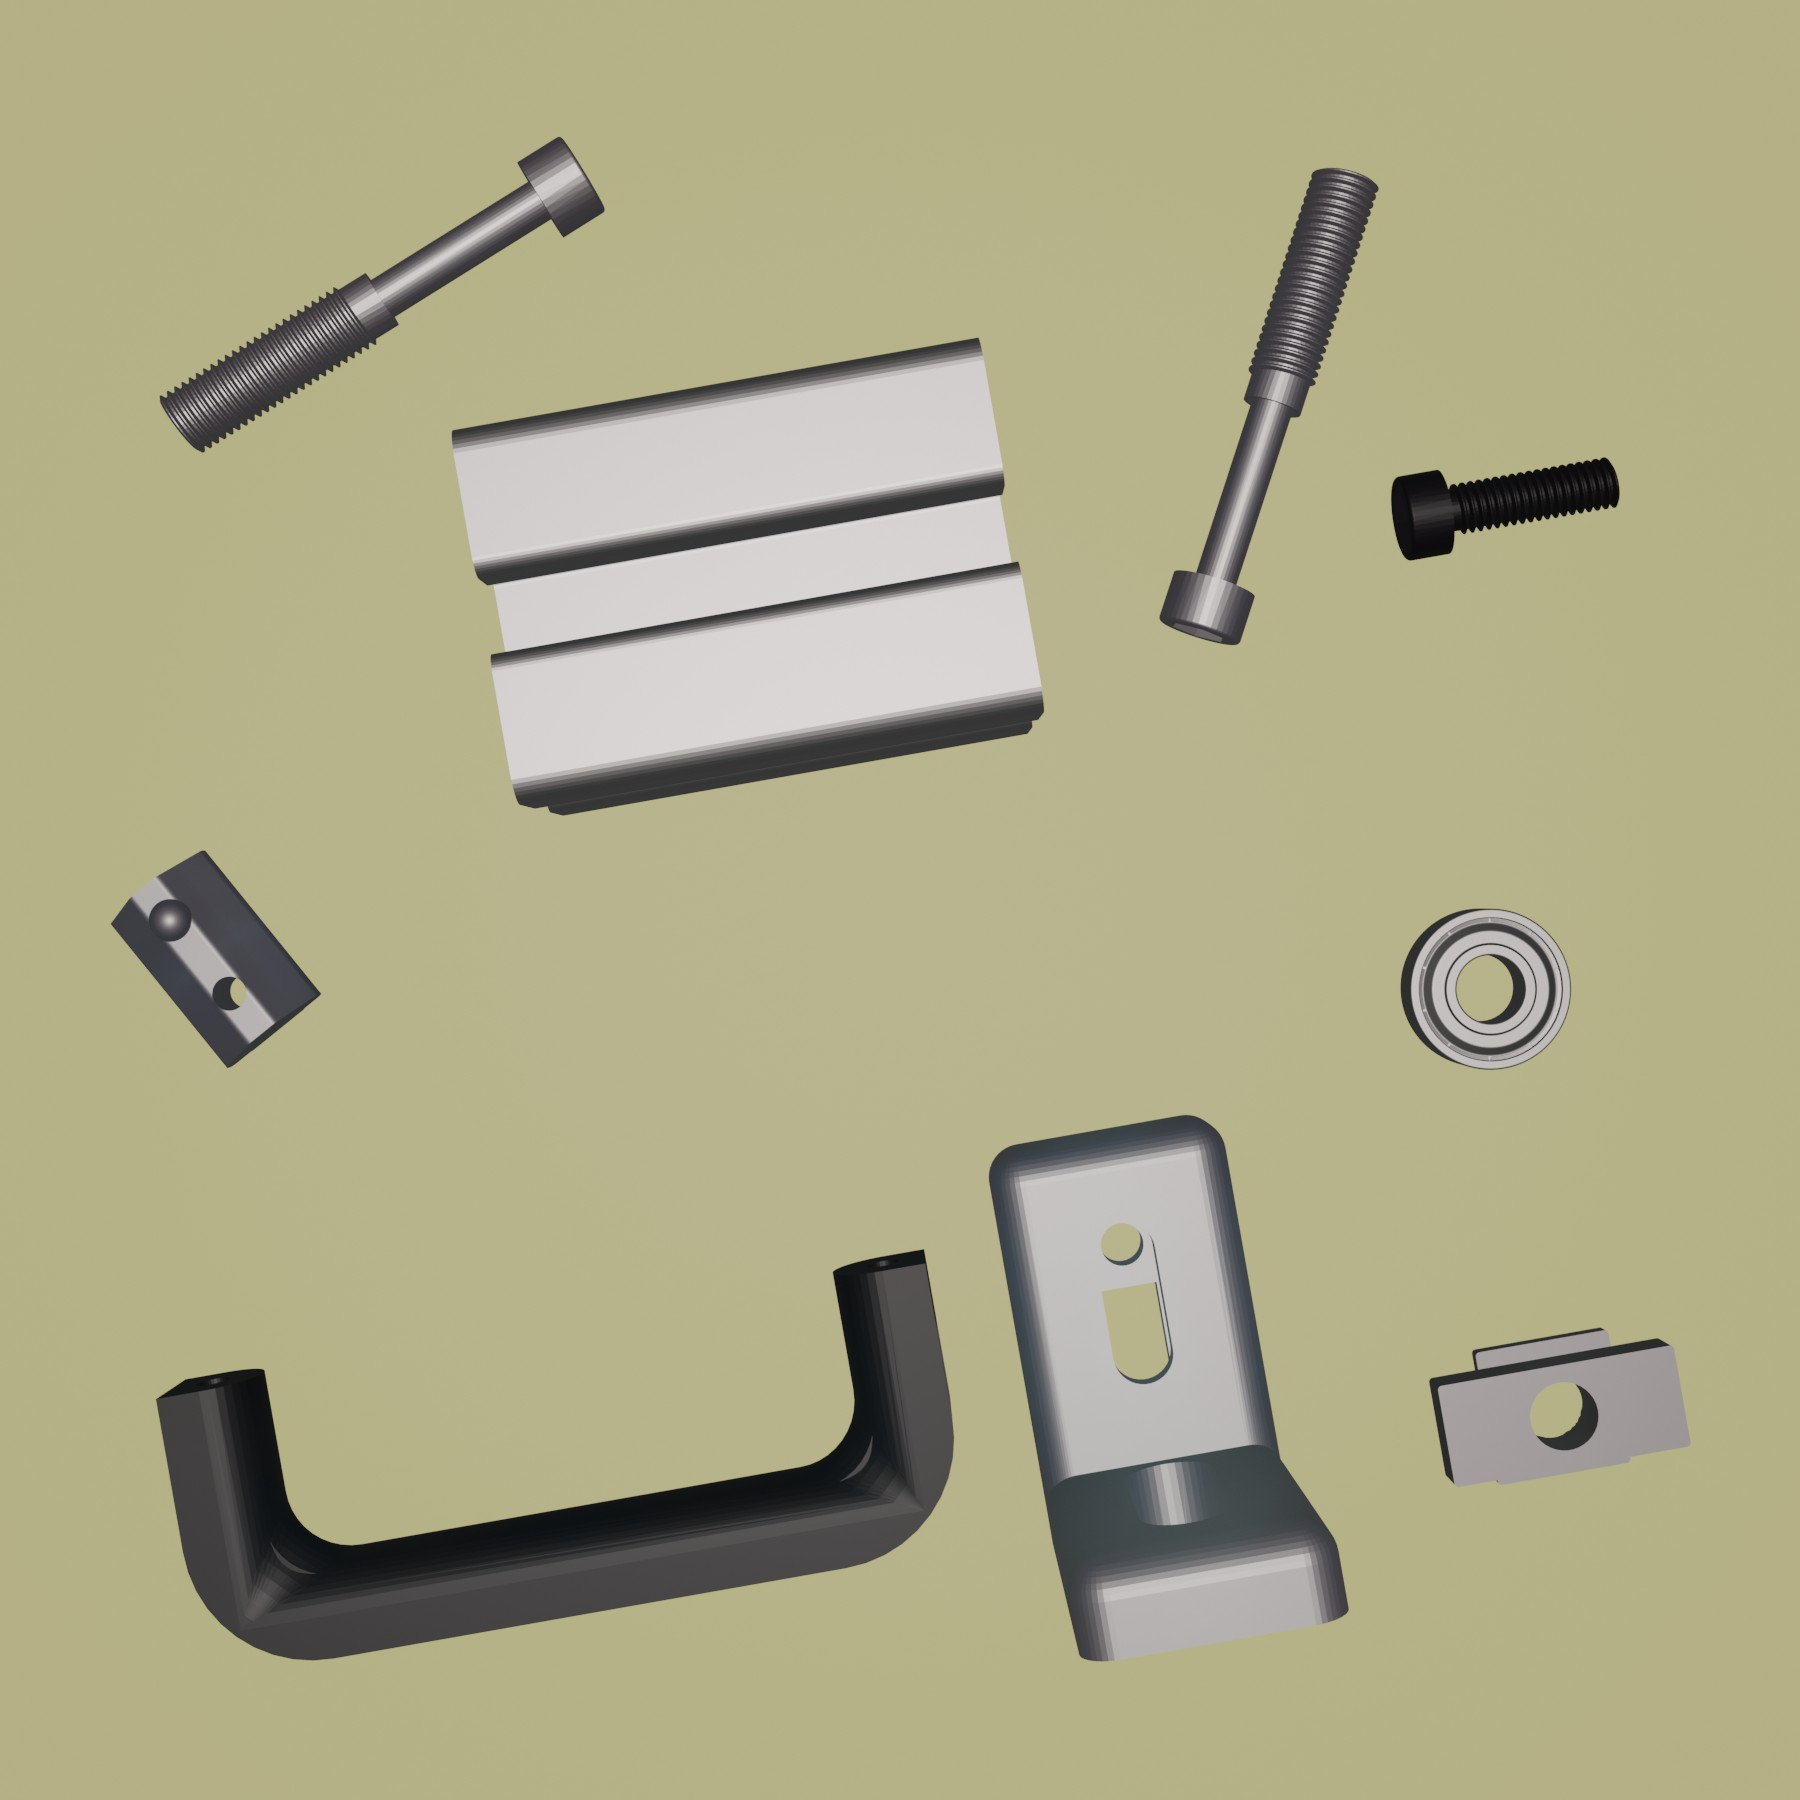Aluminium Extension: (447, 335, 1047, 819)
Ball Bearing: (1396, 903, 1576, 1071)
Multiwinkel: (986, 1111, 1352, 1663)
Pull Handle: (152, 1246, 958, 1663)
Shoulder Socket Head Cap Screw: (158, 132, 608, 455), (1155, 165, 1381, 649)
Socket Head Cap Screw: (1388, 453, 1620, 562)
T Nut Square: (1427, 1320, 1696, 1492)
T Spring Nut: (105, 847, 325, 1070)
